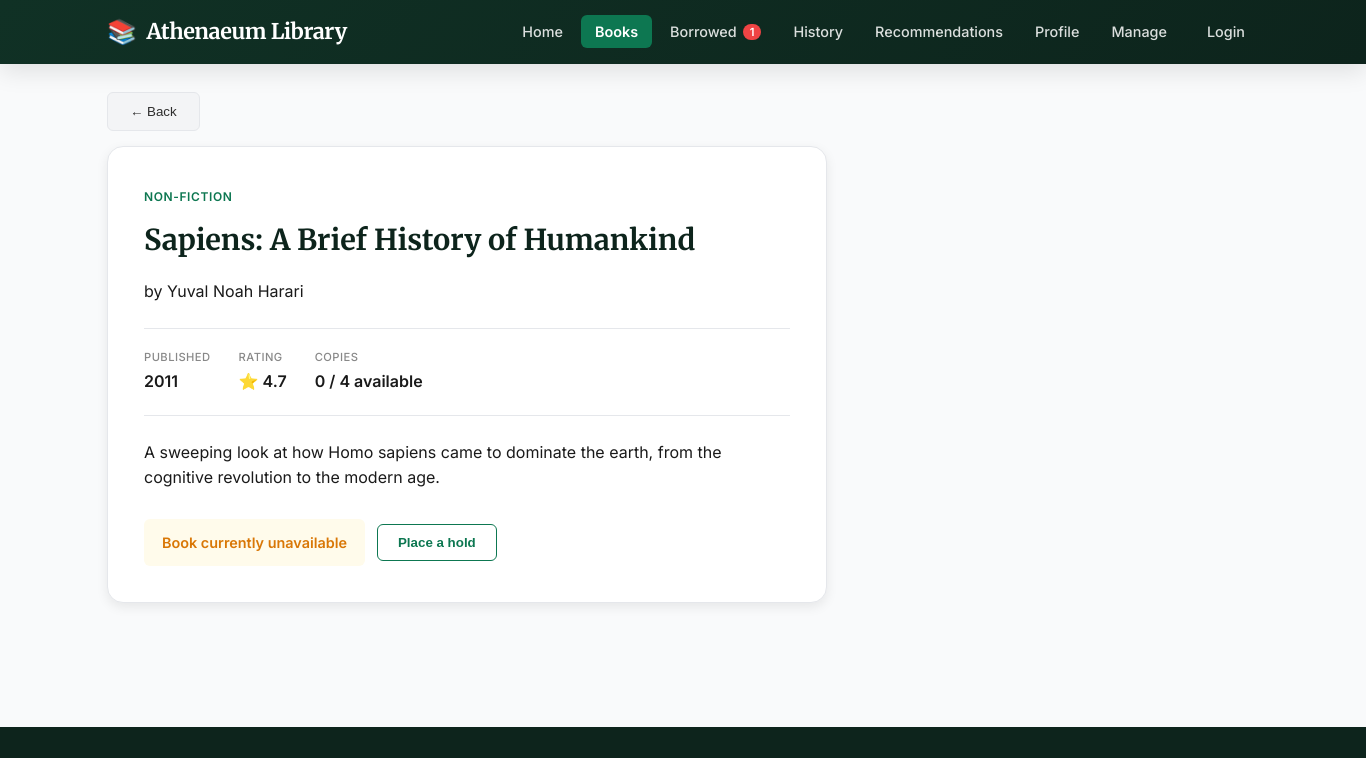
place a hold on an unavailable book
Click the button "Place a hold" at (437, 542), box [377,524,497,561]
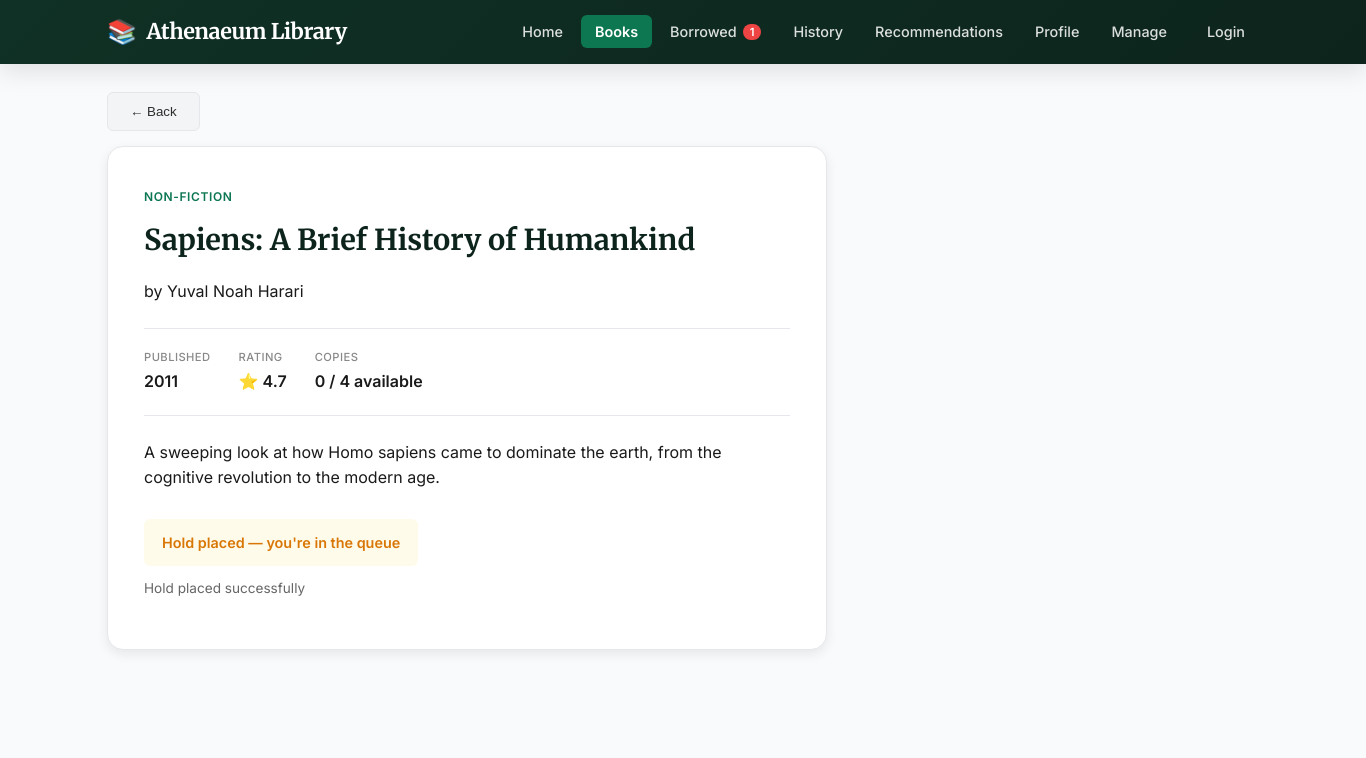
Expected: the text "Hold placed" is shown, [162,534,400,551]
